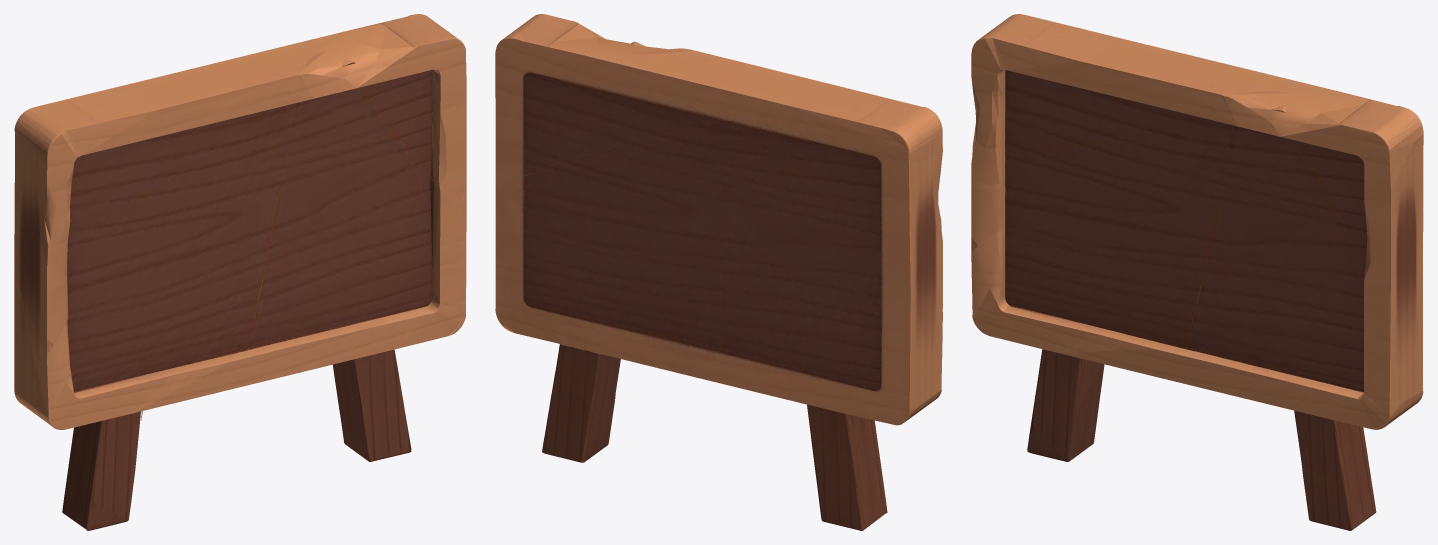
Rendered from name_sign.glb.
3 views of the same model, side by side, from view 1: azimuth 30°, elevation 25°; view 2: azimuth 150°, elevation 25°; view 3: azimuth 330°, elevation 25° (orthographic).
Bounding box in the file's own units: 1.38 × 1.3 × 0.1908.
Materials: 1 (1 with a texture image).
